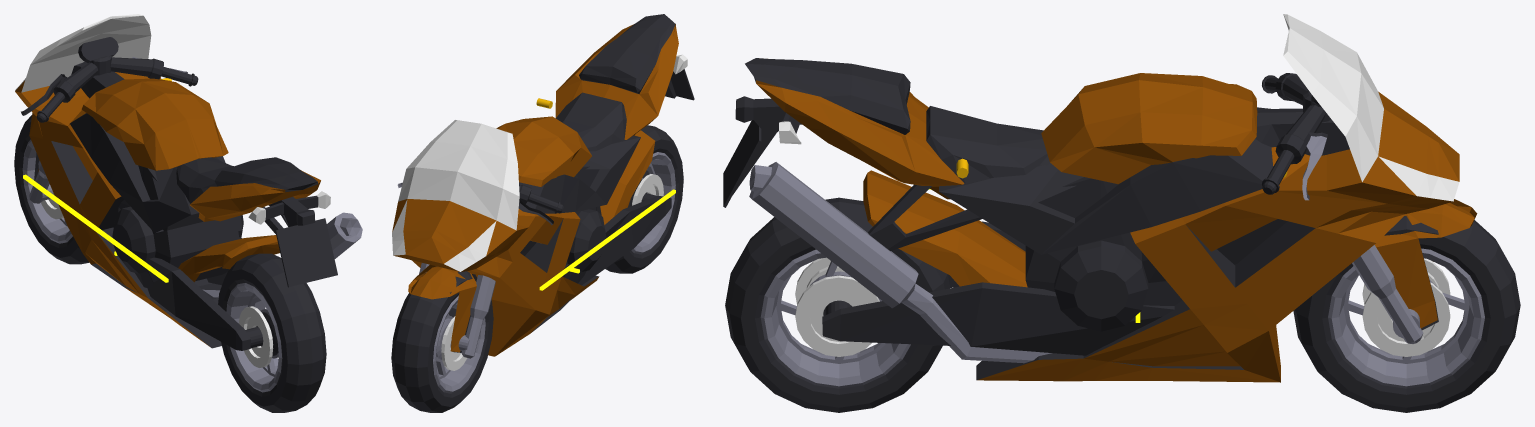
File: neon-core-orange.glb
The picture shows the model from 3 angles, left to right: view 1: azimuth 30°, elevation 25°; view 2: azimuth 150°, elevation 25°; view 3: azimuth 270°, elevation 25°; orthographic projection. The views are drawn at different scales.
Visible parts, largest first — view 1: Motorcycle, liseretAr; view 2: Motorcycle, liseretAr; view 3: Motorcycle.
Boxes of the visible parts, left/top/right/bottom form: Motorcycle: left=14, top=14, right=362, bottom=412; liseretAr: left=23, top=174, right=168, bottom=282; Motorcycle: left=391, top=14, right=694, bottom=412; liseretAr: left=539, top=189, right=675, bottom=290; Motorcycle: left=723, top=14, right=1520, bottom=412.
Bounding box in the file's own units: 0.6723 × 1.05 × 2.
5 materials, 1 textured.
